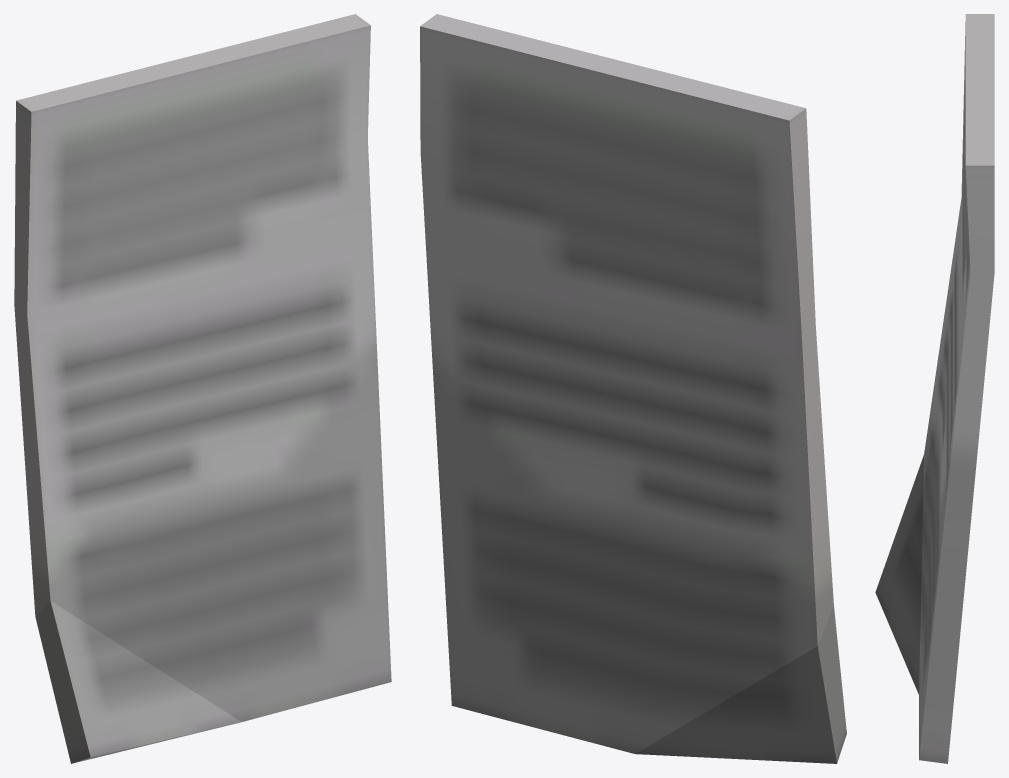
File: SM_Prop_Poster_07.obj
3 renders of one model, left to right at view 1: azimuth 30°, elevation 25°; view 2: azimuth 150°, elevation 25°; view 3: azimuth 270°, elevation 25°, orthographic. The views are drawn at different scales.
Visible parts, largest first — view 1: SM_Prop_Poster_07_0; view 2: SM_Prop_Poster_07_0; view 3: SM_Prop_Poster_07_0.
Part boxes in pixels (left/top/right/bottom): SM_Prop_Poster_07_0: left=14, top=14, right=391, bottom=763; SM_Prop_Poster_07_0: left=420, top=14, right=846, bottom=763; SM_Prop_Poster_07_0: left=875, top=14, right=994, bottom=763.
Size of the model in its own units: 0.1825 by 0.3249 by 0.0582.
Materials: 1 (1 with a texture image).
